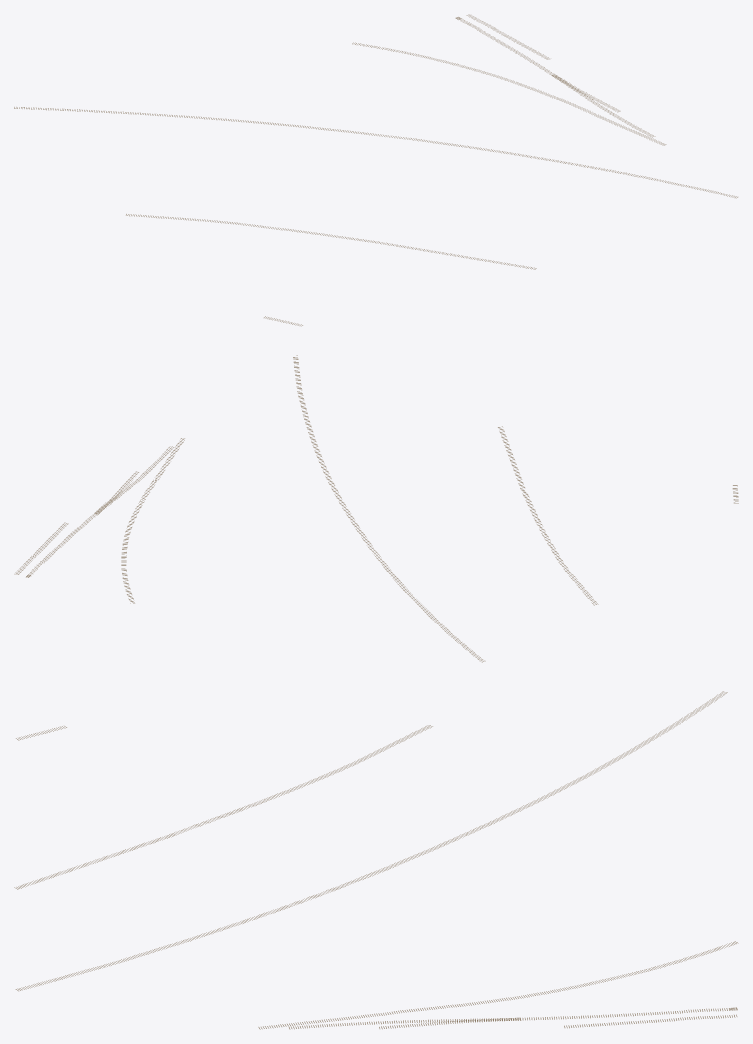
The model's file is c_1630_17823_rail_sleeper.glb.
3 views of the same model, one above another, from view 1: azimuth 30°, elevation 25°; view 2: azimuth 150°, elevation 25°; view 3: azimuth 270°, elevation 25° (orthographic). The views are drawn at different scales.
Parts seen in each view (by area): view 1: geometry_0; view 2: geometry_0; view 3: geometry_0.
Boxes of the visible parts, x1,y1,x2,y2 form: geometry_0: [14, 14, 737, 326]; geometry_0: [14, 355, 738, 662]; geometry_0: [14, 691, 738, 1029].
Size of the model in its own units: 258 by 13.55 by 257.
